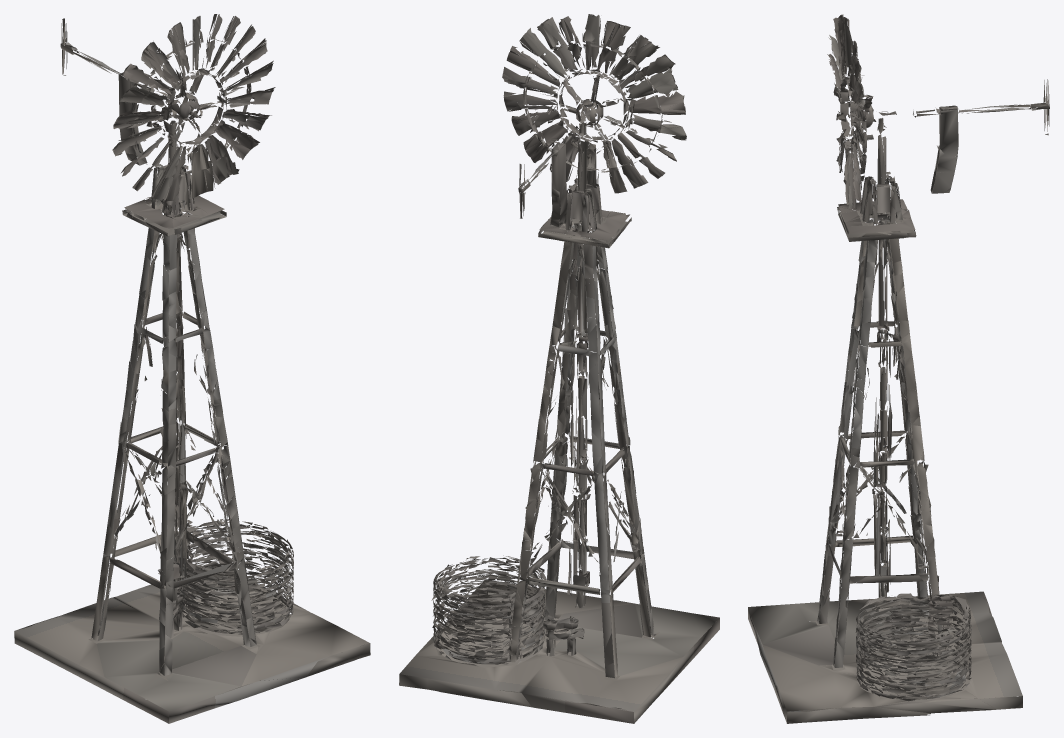
The model's file is windmill.glb.
3 views of the same model, side by side, from view 1: azimuth 30°, elevation 25°; view 2: azimuth 150°, elevation 25°; view 3: azimuth 270°, elevation 25° (orthographic). The views are drawn at different scales.
Parts seen in each view (by area): view 1: LO.001; view 2: LO.001; view 3: LO.001.
Part boxes in pixels (bbox=[...]): LO.001: bbox=[14, 14, 370, 723]; LO.001: bbox=[399, 14, 719, 723]; LO.001: bbox=[748, 14, 1049, 723].
Bounding box in the file's own units: 0.7795 × 1.9 × 0.8245.
Materials: 1 (1 with a texture image).
